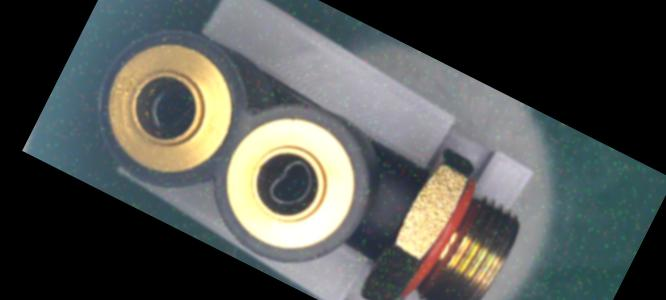off-centered: (259, 148, 322, 215), (143, 79, 203, 140)
